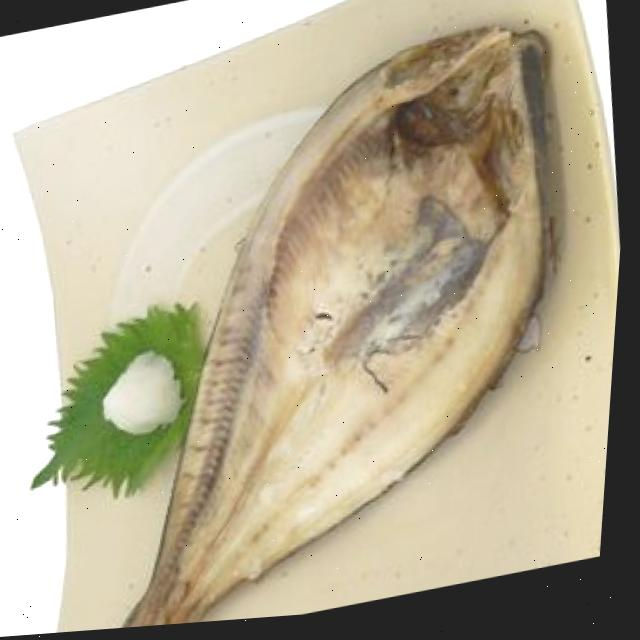熟制海鲜: (20, 0, 619, 637)
